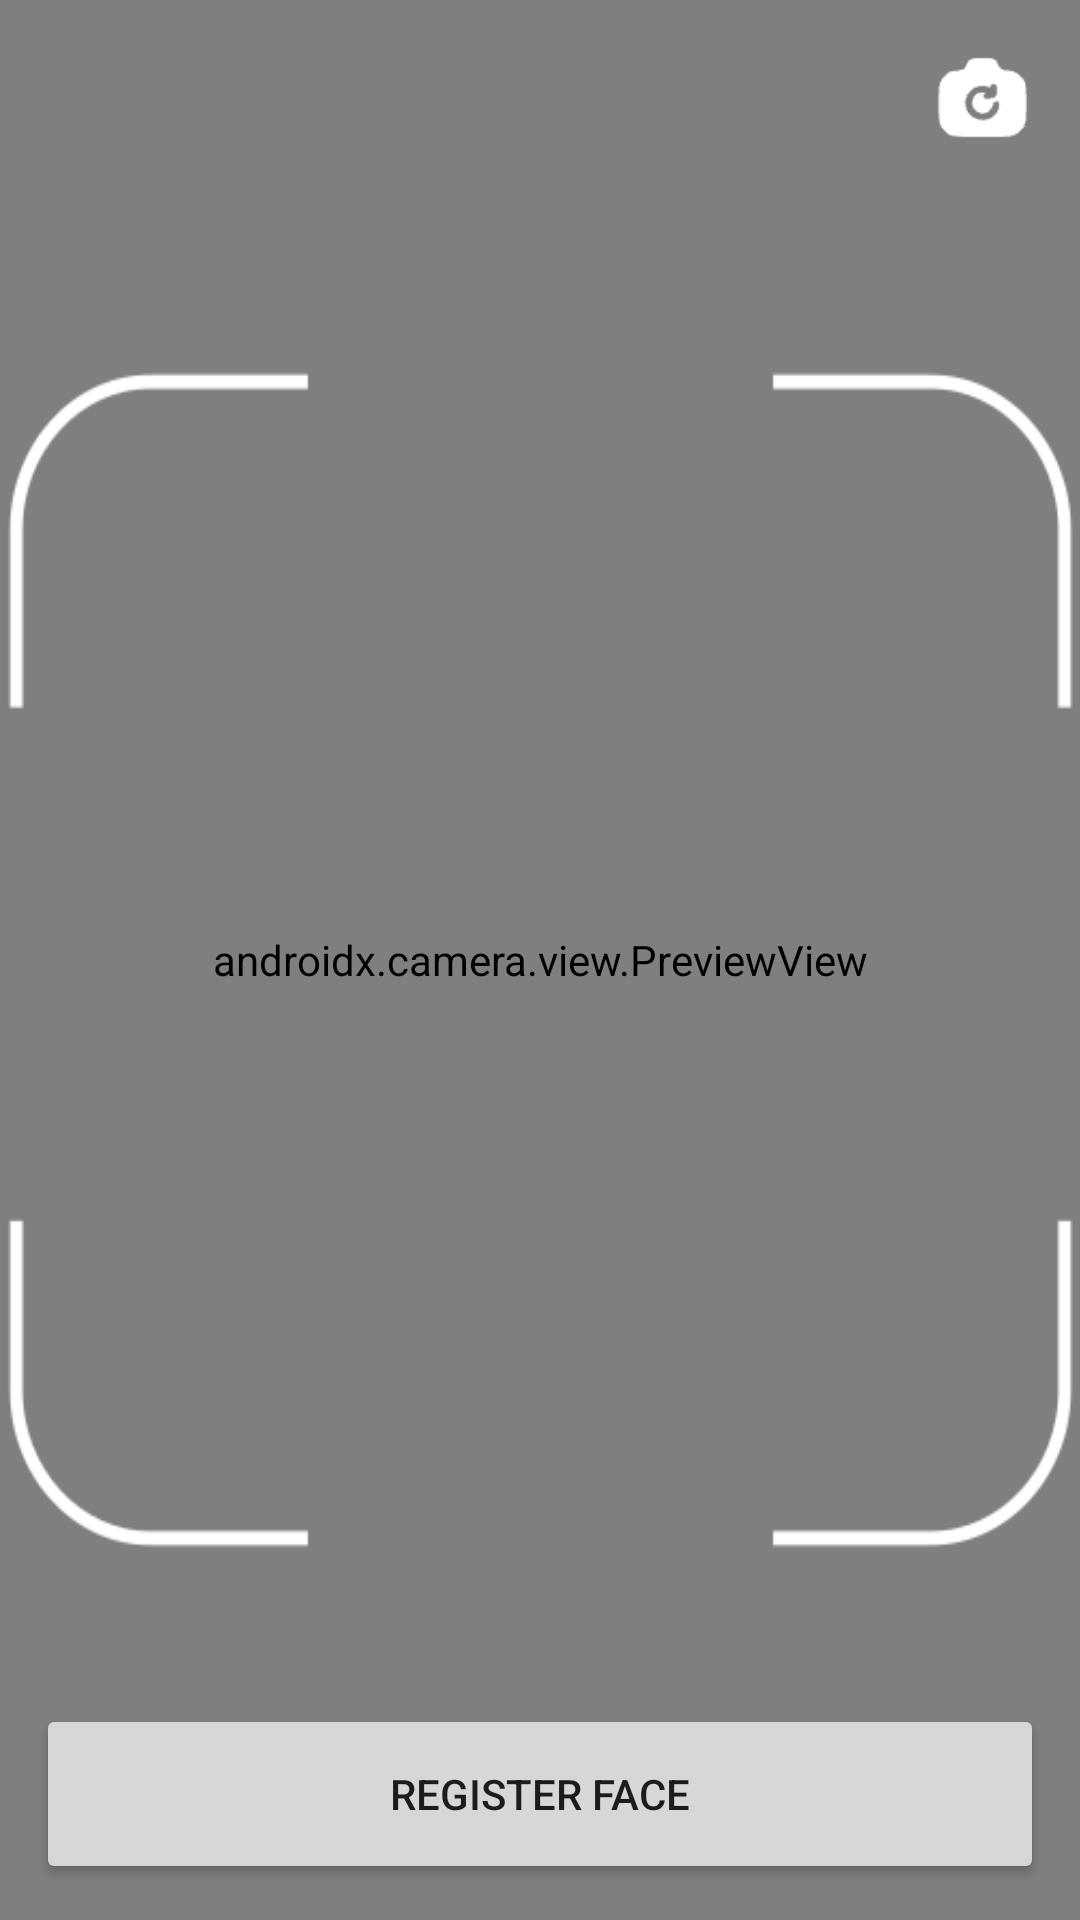

Icon click points for this 1080 x 1920 phone screenshot, format [x,y]:
camera rotation: [982,97]
